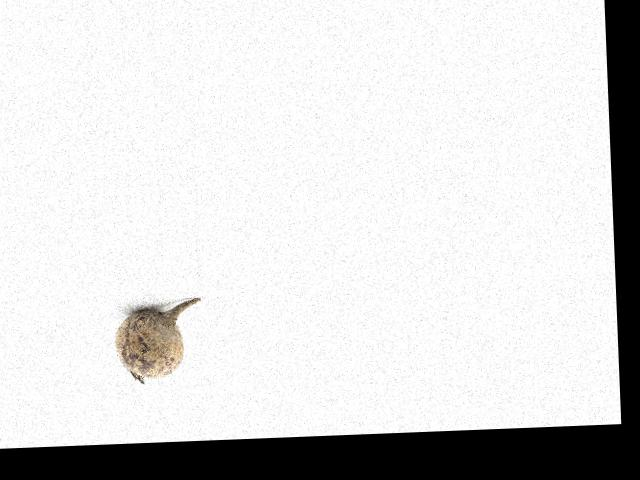beet: (112, 297, 203, 384)
